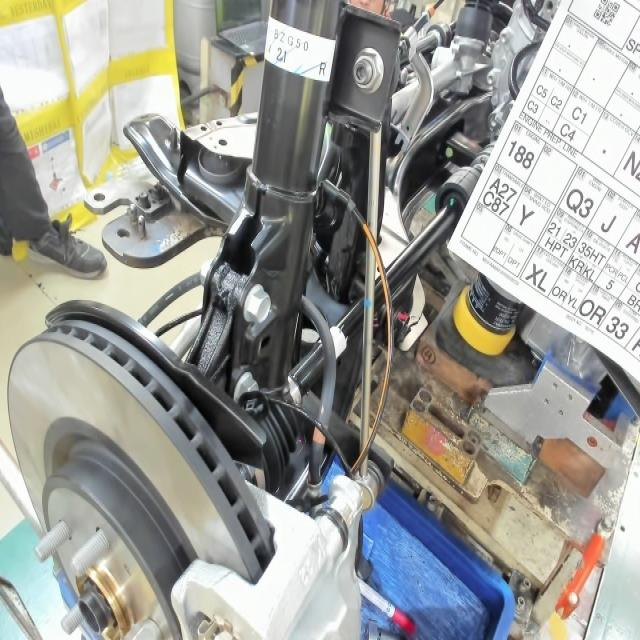Absorber RH-21: (272, 41, 292, 70)
Disc-HT: (26, 408, 208, 640)
Drive Shaft-PT: (328, 323, 350, 359)
